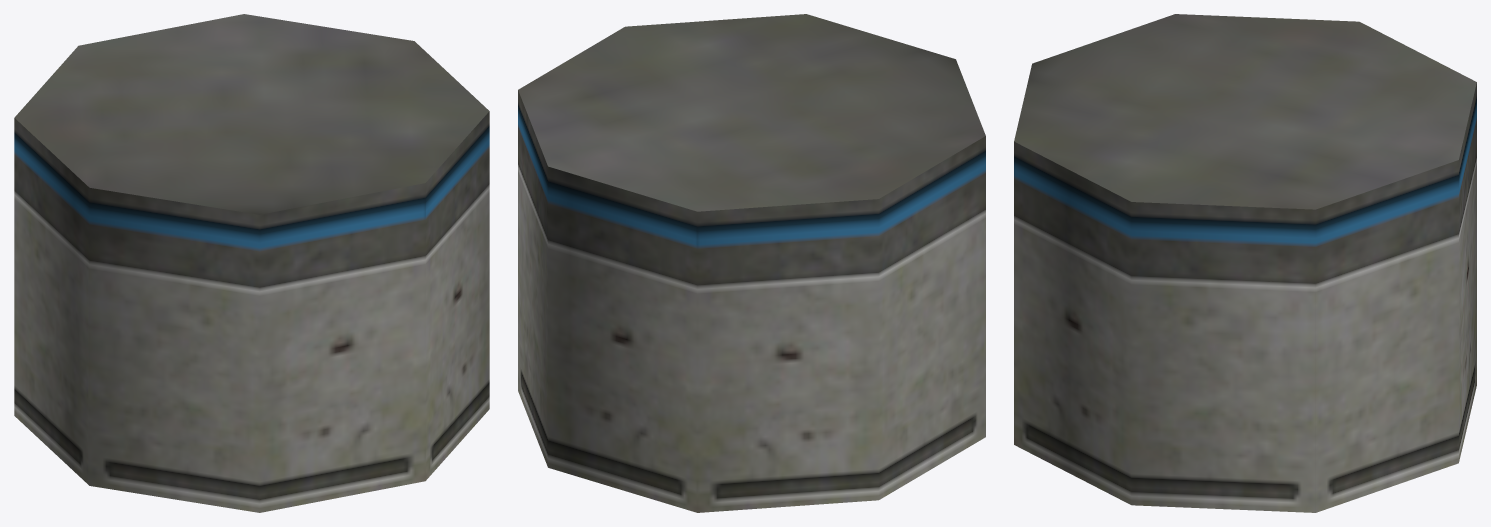
Rendered from HoseFeeder.fbx.
3 views of the same model, side by side, from view 1: azimuth 30°, elevation 25°; view 2: azimuth 150°, elevation 25°; view 3: azimuth 270°, elevation 25° (orthographic).
Visible parts, largest first — view 1: pCylinder43; view 2: pCylinder43; view 3: pCylinder43.
Part boxes in pixels (bbox=[...]): pCylinder43: bbox=[14, 14, 489, 512]; pCylinder43: bbox=[518, 14, 985, 512]; pCylinder43: bbox=[1014, 14, 1476, 512].
Size of the model in its own units: 2.68 by 1.94 by 2.68.
1 material, 1 textured.
